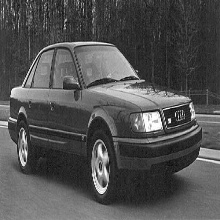no damage: (9, 42, 204, 203)
